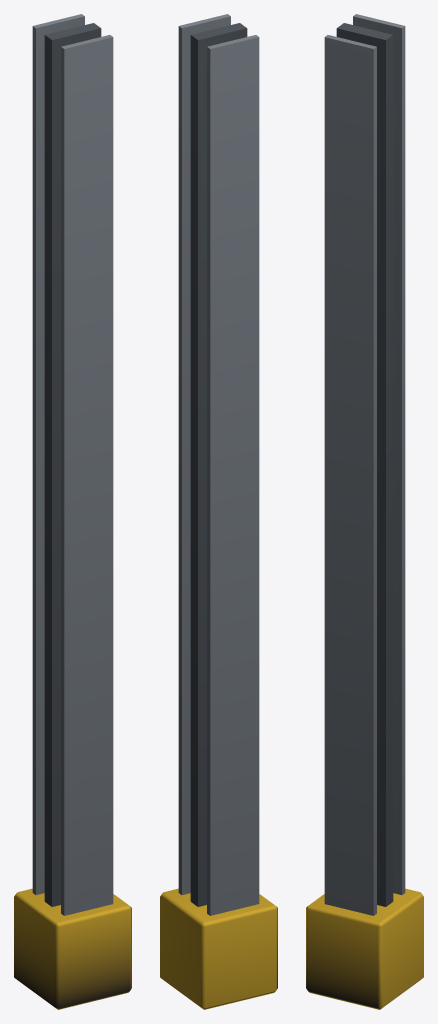
The model's file is prop.honey_column.glb.
3 views of the same model, side by side, from view 1: azimuth 30°, elevation 25°; view 2: azimuth 210°, elevation 25°; view 3: azimuth 330°, elevation 25° (orthographic).
Visible parts, largest first — view 1: honey_column; view 2: honey_column; view 3: honey_column.
Boxes of the visible parts, bbox=[...] form: honey_column: bbox=[14, 14, 131, 1009]; honey_column: bbox=[160, 14, 277, 1009]; honey_column: bbox=[306, 14, 423, 1009].
Size of the model in its own units: 1.1 by 13 by 1.1.
